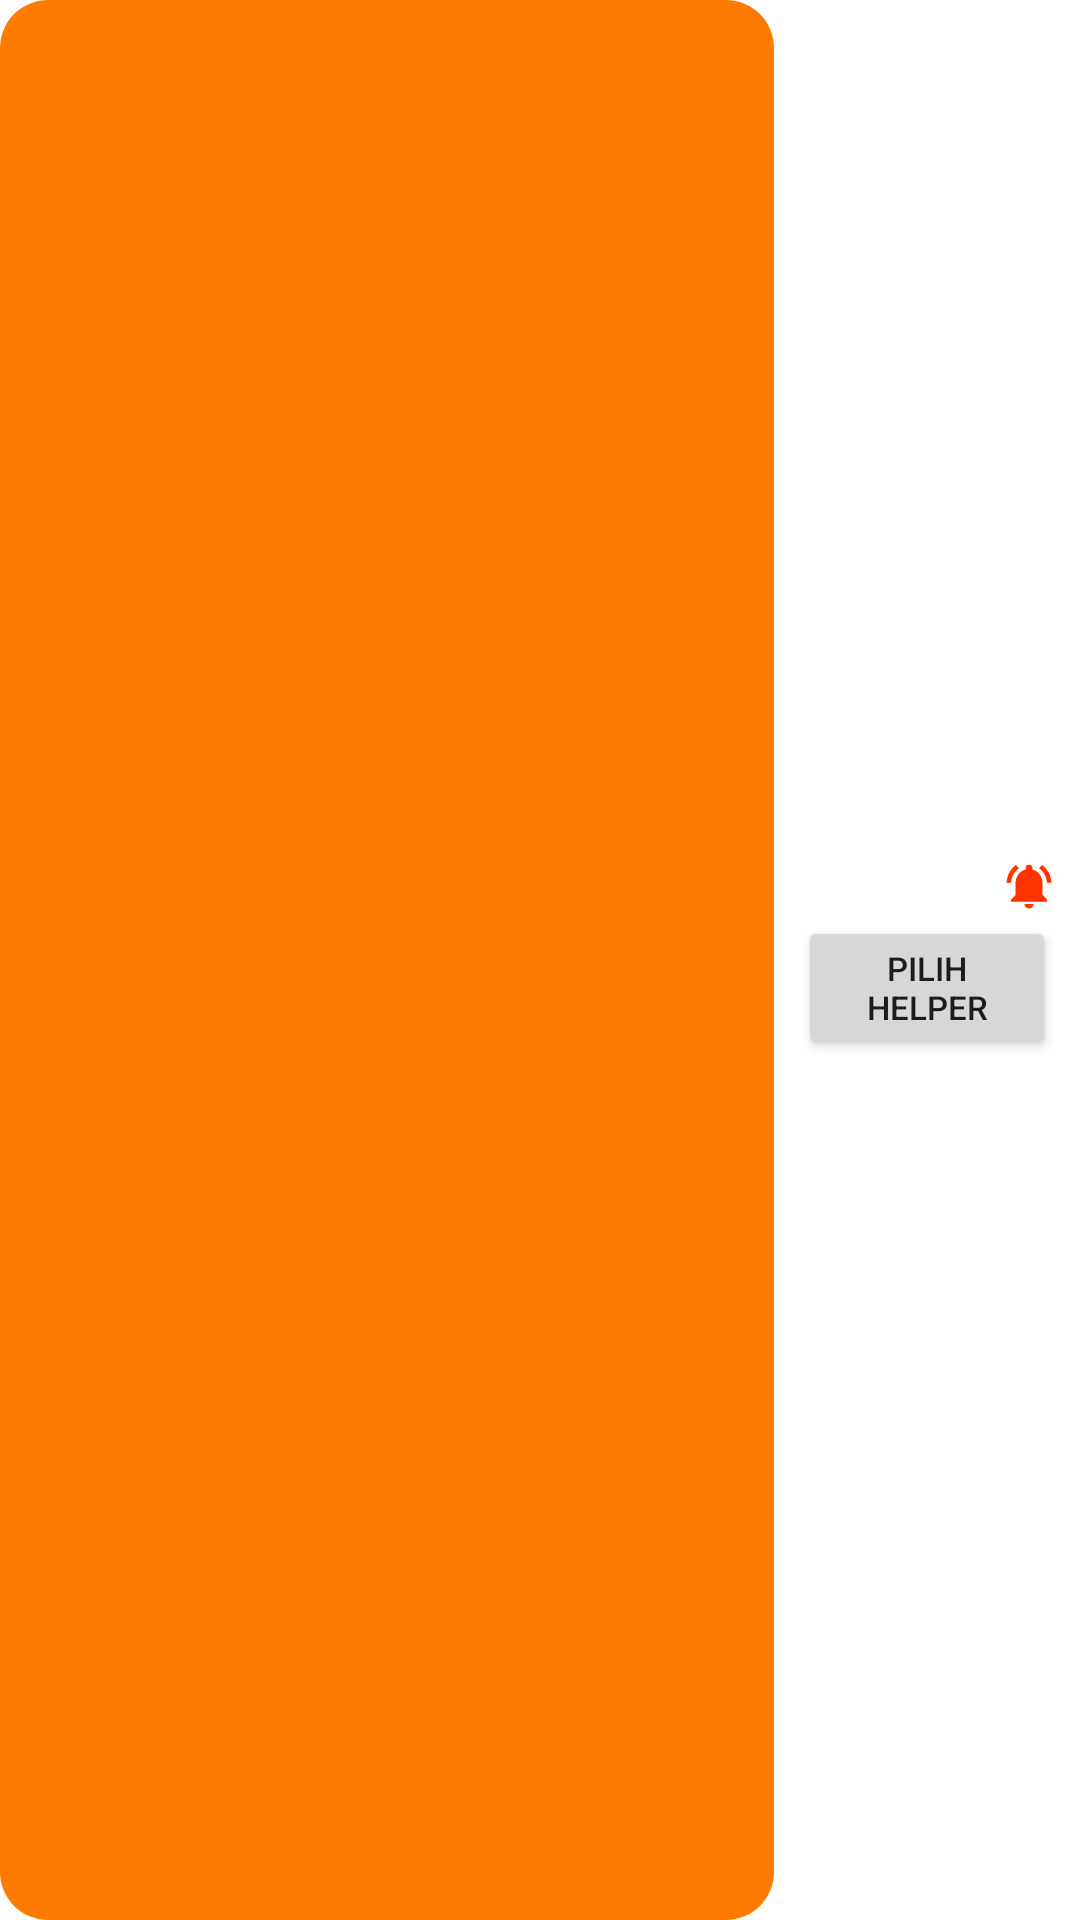

Where to tap for icons on this 1080*1920 app screen, as (x,y):
notifications: (1029,886)
